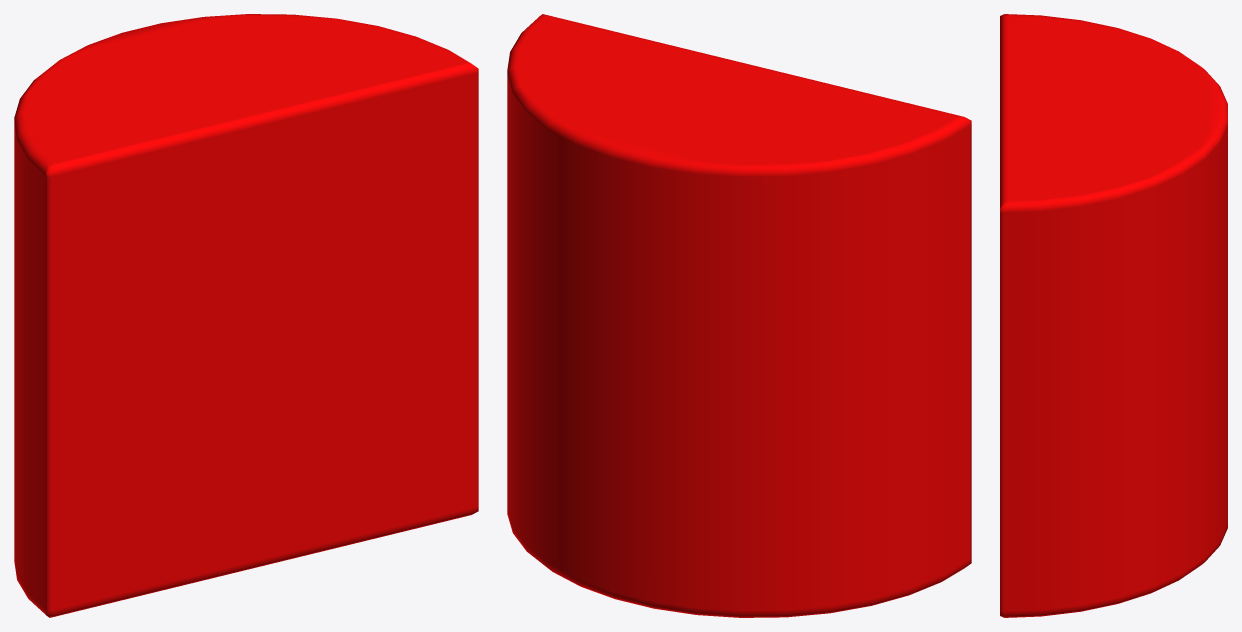
The model's file is Dungeon_HalfColumnSmall.fbx.
3 views of the same model, side by side, from view 1: azimuth 30°, elevation 25°; view 2: azimuth 150°, elevation 25°; view 3: azimuth 270°, elevation 25° (orthographic). The views are drawn at different scales.
Parts seen in each view (by area): view 1: HalfColumnSmall; view 2: HalfColumnSmall; view 3: HalfColumnSmall.
Part boxes in pixels (x1,y1,x2,y2): HalfColumnSmall: [14, 14, 478, 617]; HalfColumnSmall: [507, 14, 971, 617]; HalfColumnSmall: [1000, 14, 1227, 617].
Size of the model in its own units: 250 by 250 by 124.
